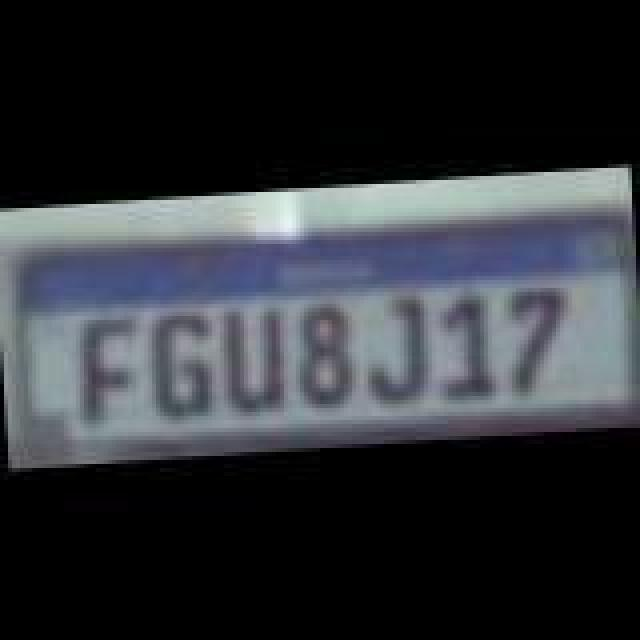1: (430, 286, 506, 402)
7: (498, 278, 574, 394)
8: (292, 294, 356, 418)
F: (78, 314, 146, 422)
G: (148, 304, 220, 424)
J: (364, 288, 436, 408)
U: (212, 298, 284, 414)
